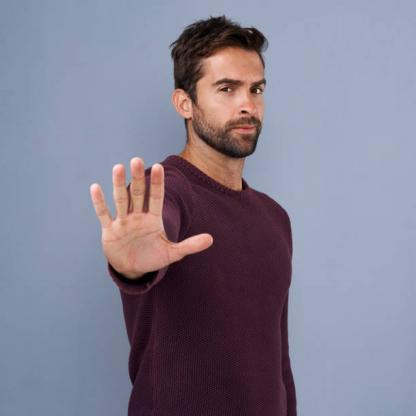stop: (90, 155, 214, 281)
